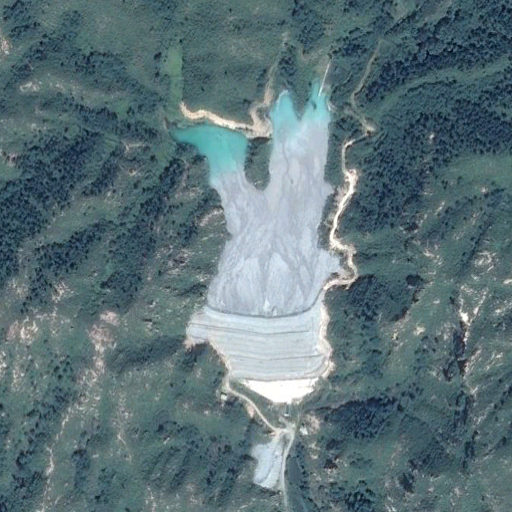tp: (166, 80, 344, 403)
